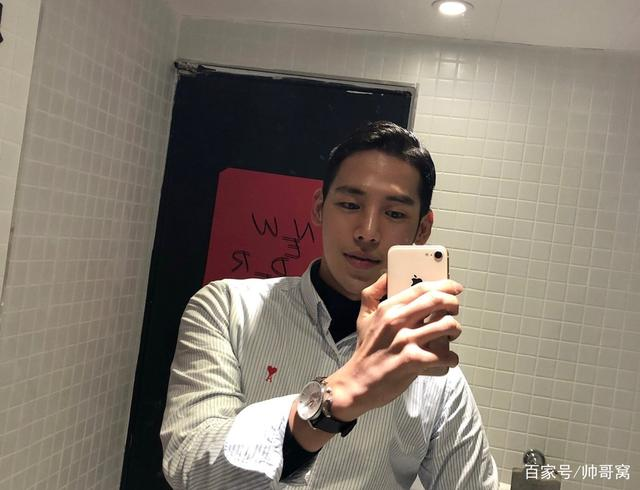taking photos: (335, 240, 465, 419)
